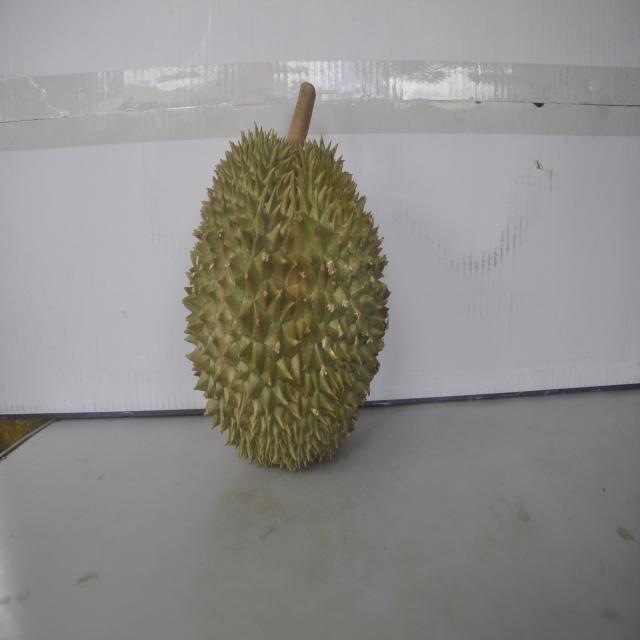mature: (185, 111, 391, 472)
